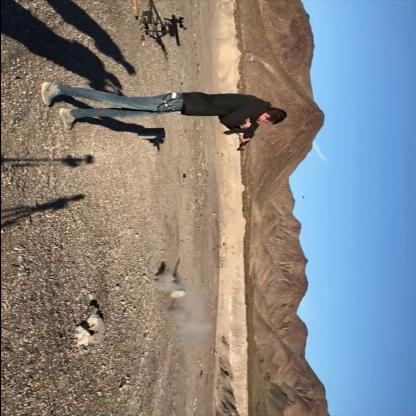long weapon: (218, 110, 266, 152), (142, 11, 192, 51)
